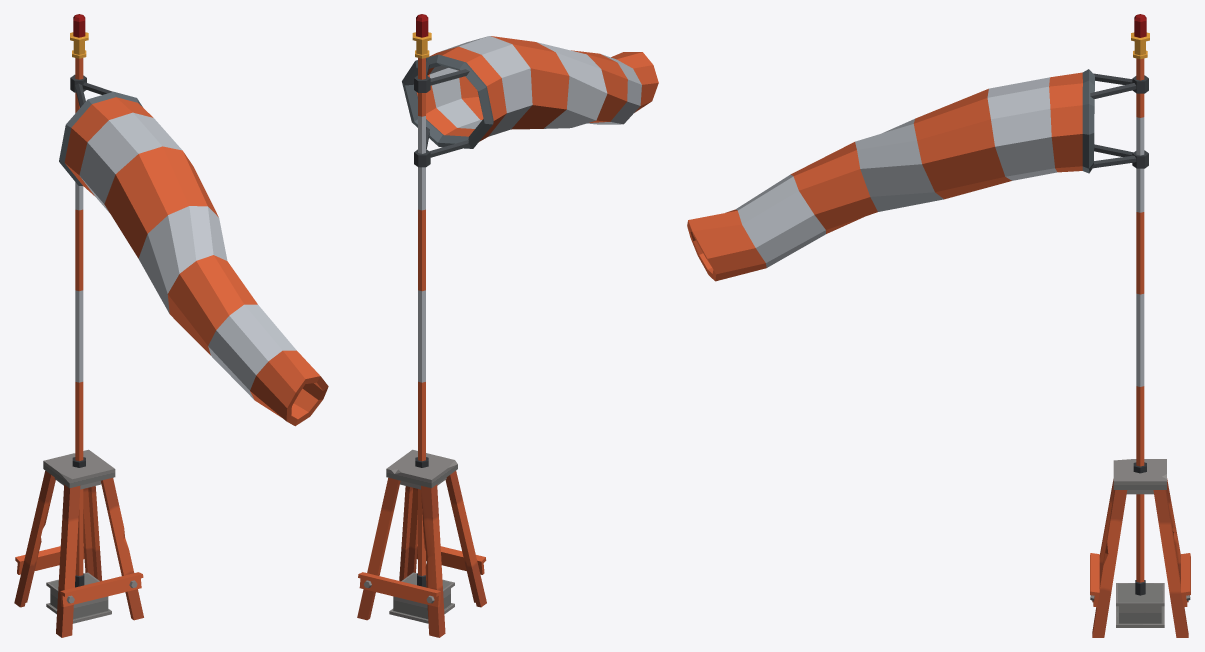
File: SM_Prop_Windsock_01.fbx
3 views of the same model, side by side, from view 1: azimuth 30°, elevation 25°; view 2: azimuth 150°, elevation 25°; view 3: azimuth 270°, elevation 25° (orthographic).
Parts seen in each view (by area): view 1: SM_Prop_Windsock_01; view 2: SM_Prop_Windsock_01; view 3: SM_Prop_Windsock_01.
Part boxes in pixels (x1,y1,x2,y2): SM_Prop_Windsock_01: [14, 14, 328, 637]; SM_Prop_Windsock_01: [357, 14, 658, 637]; SM_Prop_Windsock_01: [687, 14, 1190, 637].
Bounding box in the file's own units: 114 × 692 × 524.
